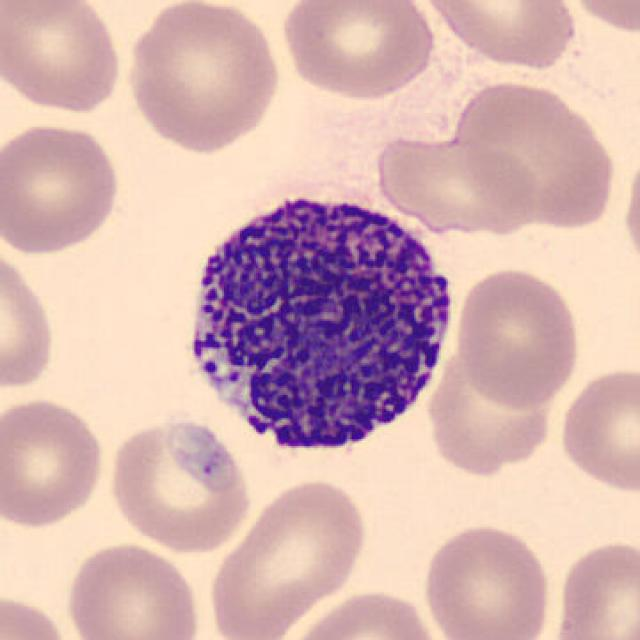Basophil: (170, 172, 468, 480)
RBC: (205, 474, 372, 640), (448, 76, 620, 233), (121, 0, 284, 157), (105, 412, 256, 556), (451, 262, 585, 410), (374, 122, 540, 238), (0, 118, 124, 257), (418, 520, 556, 640), (277, 0, 439, 102), (427, 356, 547, 484), (0, 0, 128, 116), (60, 537, 204, 640), (0, 393, 108, 530), (412, 0, 582, 71), (555, 362, 638, 496), (0, 240, 60, 395), (550, 536, 638, 640), (281, 585, 446, 640), (0, 590, 76, 640), (618, 139, 640, 278), (563, 0, 640, 37)
